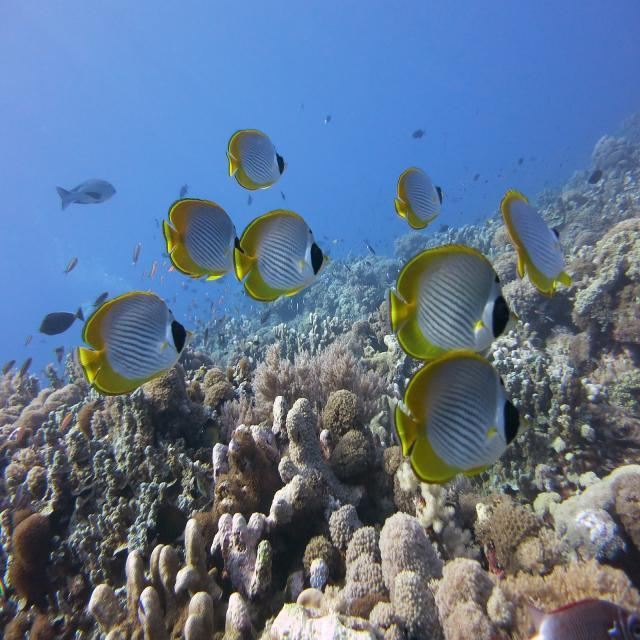ButterflyFish: (389, 354, 535, 509), (368, 252, 539, 354), (72, 272, 198, 409), (486, 158, 578, 296), (154, 174, 243, 304), (224, 210, 328, 296), (205, 122, 309, 202), (381, 150, 448, 232)
